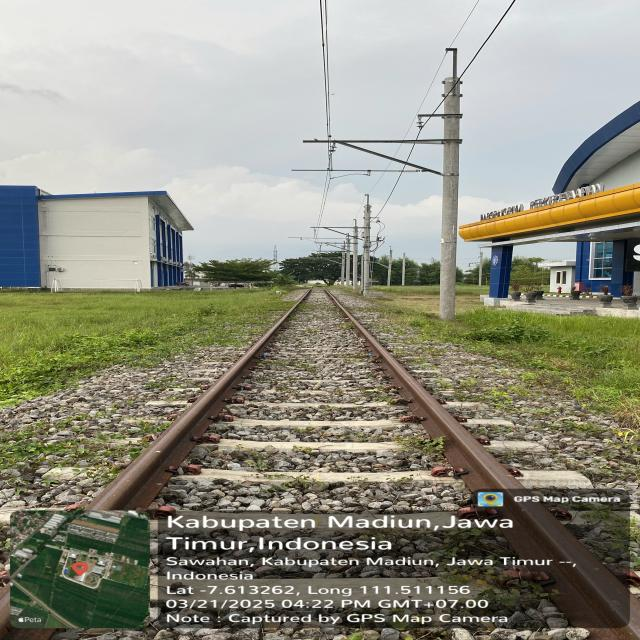rail-detection: (326, 291, 640, 640), (86, 290, 310, 510)
